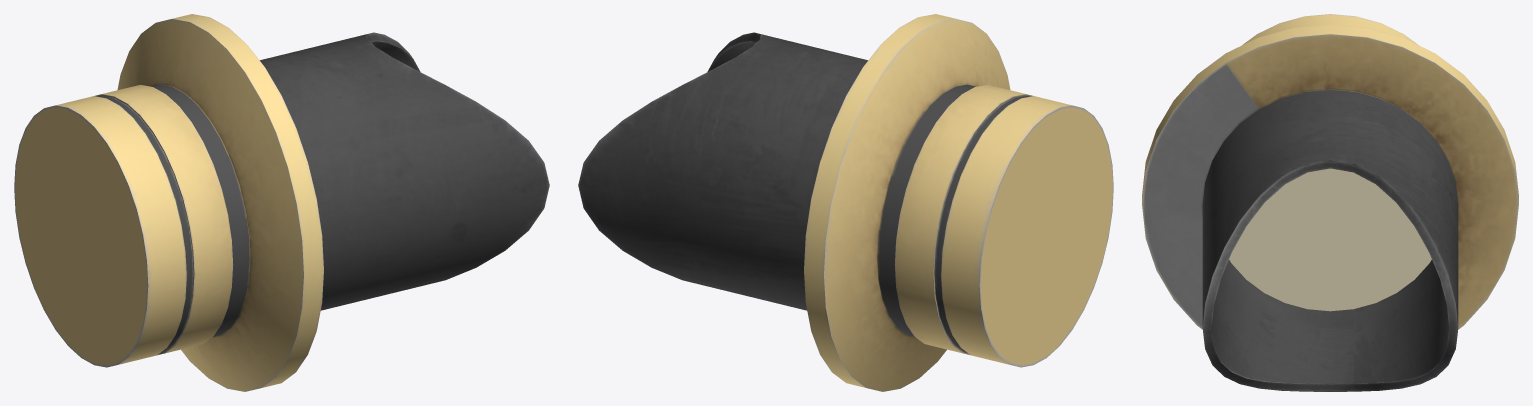
Rendered from guard_6_c_b.glb.
3 views of the same model, side by side, from view 1: azimuth 30°, elevation 25°; view 2: azimuth 150°, elevation 25°; view 3: azimuth 270°, elevation 25° (orthographic).
Parts seen in each view (by area): view 1: guard_6_c_b_lod0; view 2: guard_6_c_b_lod0; view 3: guard_6_c_b_lod0.
Boxes of the visible parts, <box> form: guard_6_c_b_lod0: <box>14,14,549,391</box>; guard_6_c_b_lod0: <box>578,14,1113,391</box>; guard_6_c_b_lod0: <box>1142,14,1518,391</box>.
Size of what is drawn, in the model's own units: 0.0477 by 0.0391 by 0.0391.
1 material, 1 textured.
